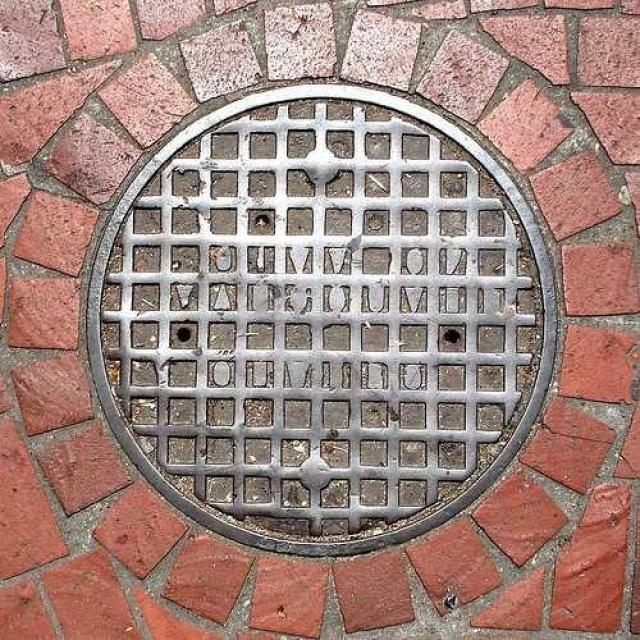manhole: (84, 79, 566, 561)
